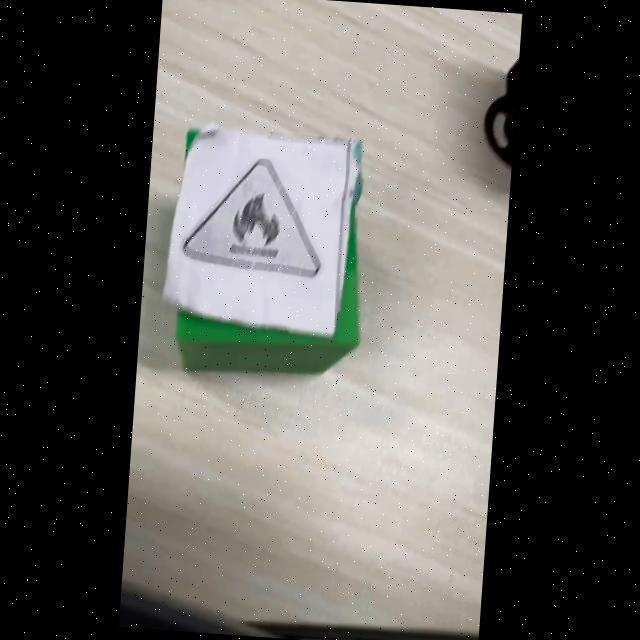Fire: (183, 158, 320, 276)
